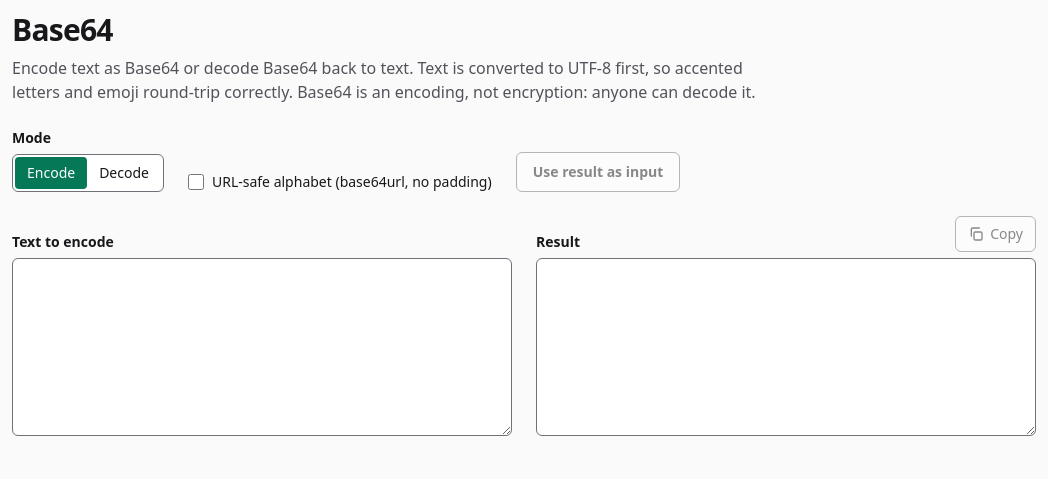
Base64Tool › encodes, swaps and decodes
Type "héllo" into the text box labelled "Text to encode" at [262, 347], box [12,258,512,436]
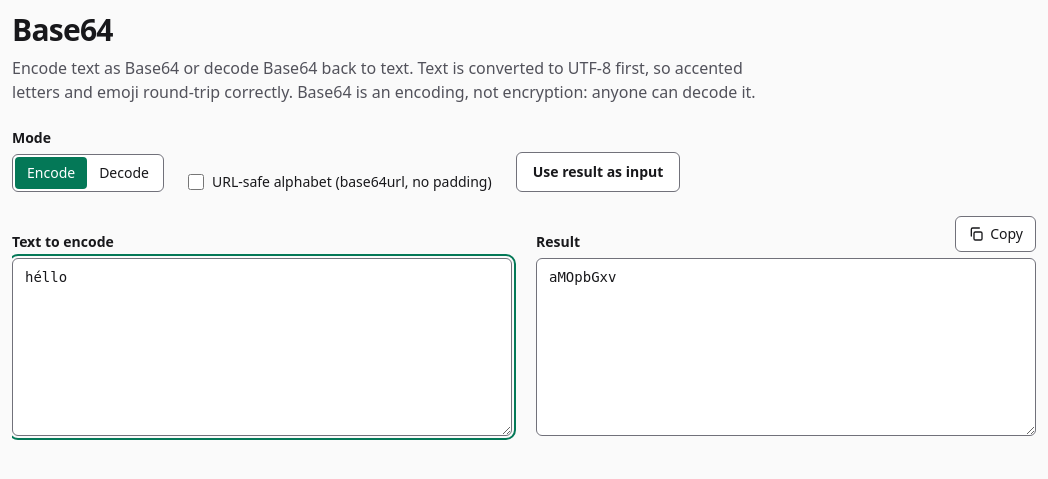
Result: the text box labelled "Result" holds "aMOpbGxv" at [536,258,1036,436]
Click the button "Use result as input" at [598, 172], box [516,152,680,192]
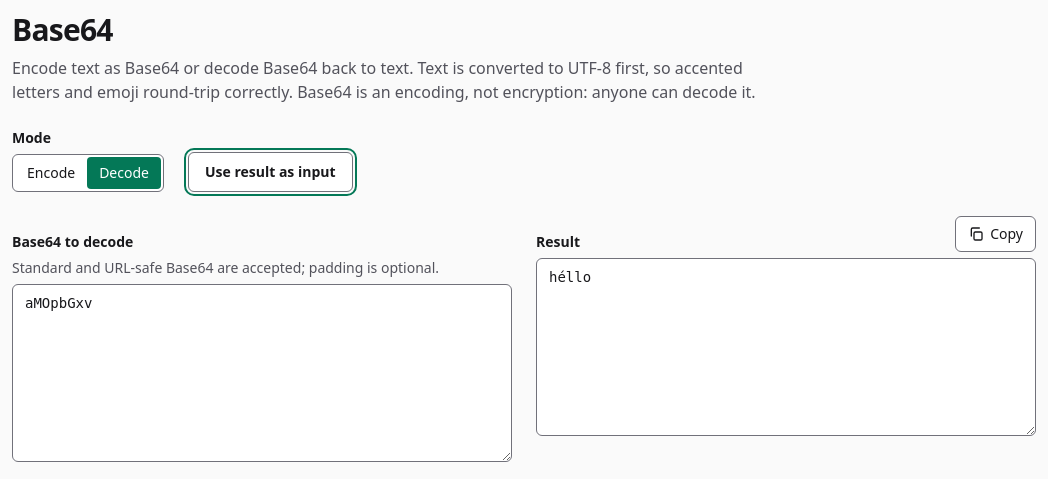
Result: the text box labelled "Base64 to decode" holds "aMOpbGxv" at [12,284,512,462]
Result: the text box labelled "Result" holds "héllo" at [536,258,1036,436]
